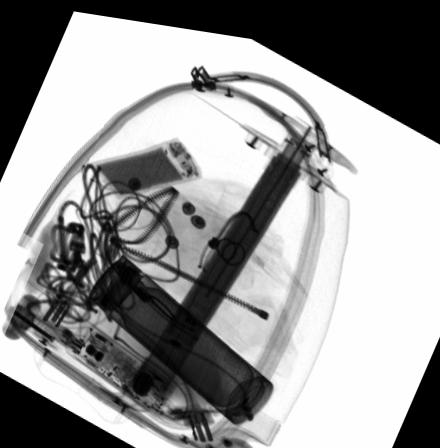Powerbank: (91, 130, 202, 196)
